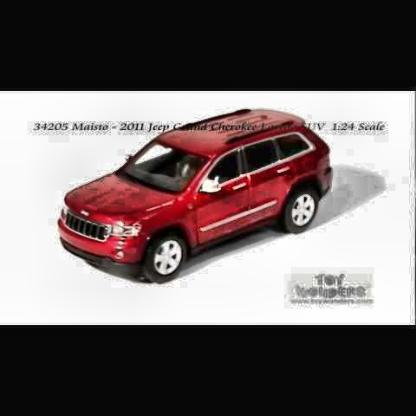Jeep Grand Cherokee SUV 2012: (57, 110, 335, 286)
